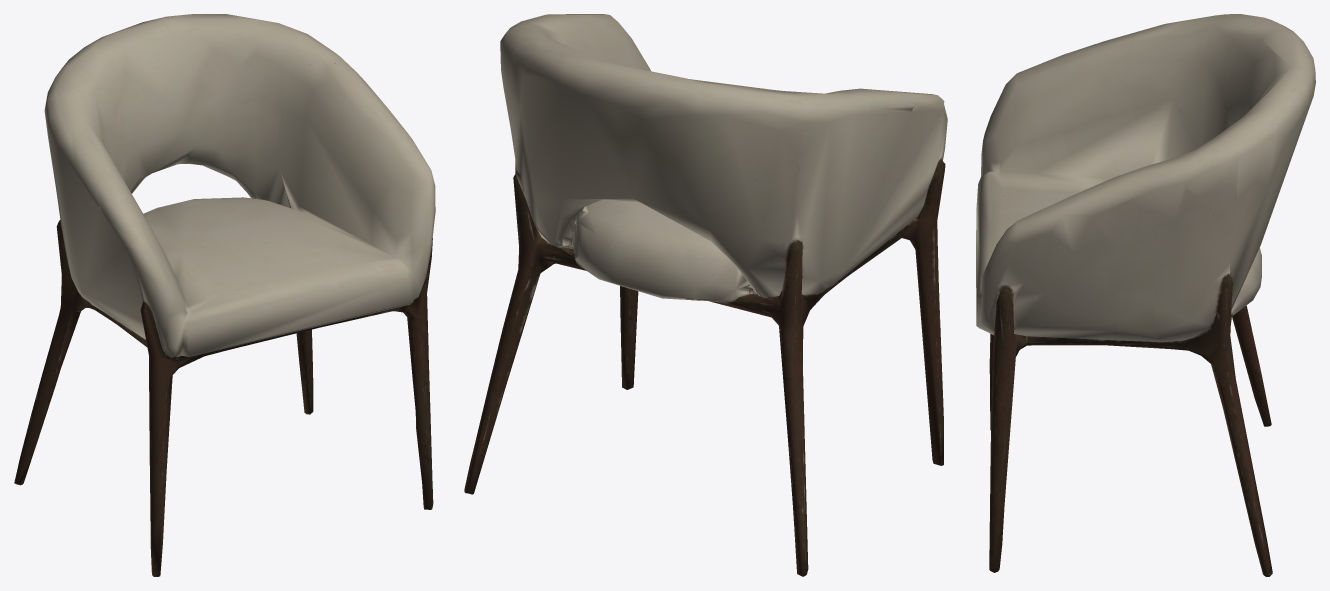
Rendered from nA70ix7w4PtCNlPI9BuV-.glb.
The picture shows the model from 3 angles, left to right: view 1: azimuth 30°, elevation 25°; view 2: azimuth 150°, elevation 25°; view 3: azimuth 270°, elevation 25°; orthographic projection. The views are drawn at different scales.
Visible parts, largest first — view 1: geometry_0; view 2: geometry_0; view 3: geometry_0.
Boxes of the visible parts, x1,y1,x2,y2 form: geometry_0: (14,14,435,576); geometry_0: (464,14,947,576); geometry_0: (976,14,1315,576).
Size of the model in its own units: 0.7733 by 1 by 0.6967.
1 material, 1 textured.
